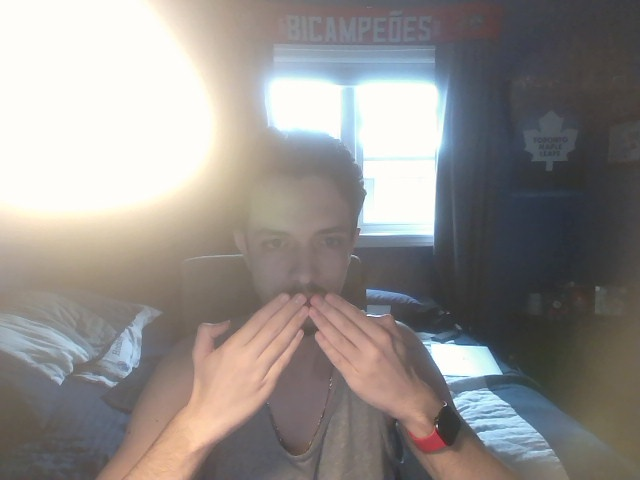ThankYou: (185, 293, 429, 422)
